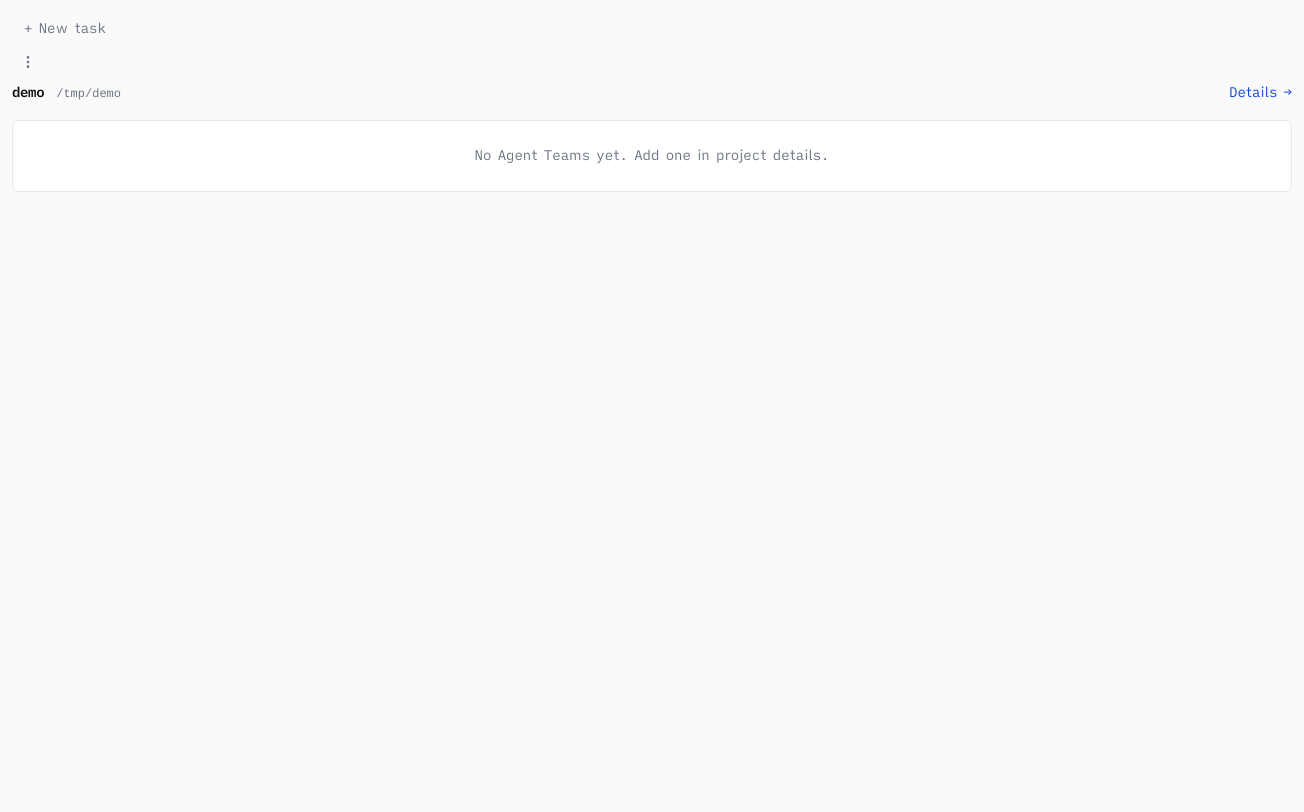
Test: Dashboard layout › closes the kebab menu when Escape is pressed or an outside click happens
The width and height of the screenshot is (1304, 812).
Click the button named "More actions" at (28, 62), box [12,46,44,78]
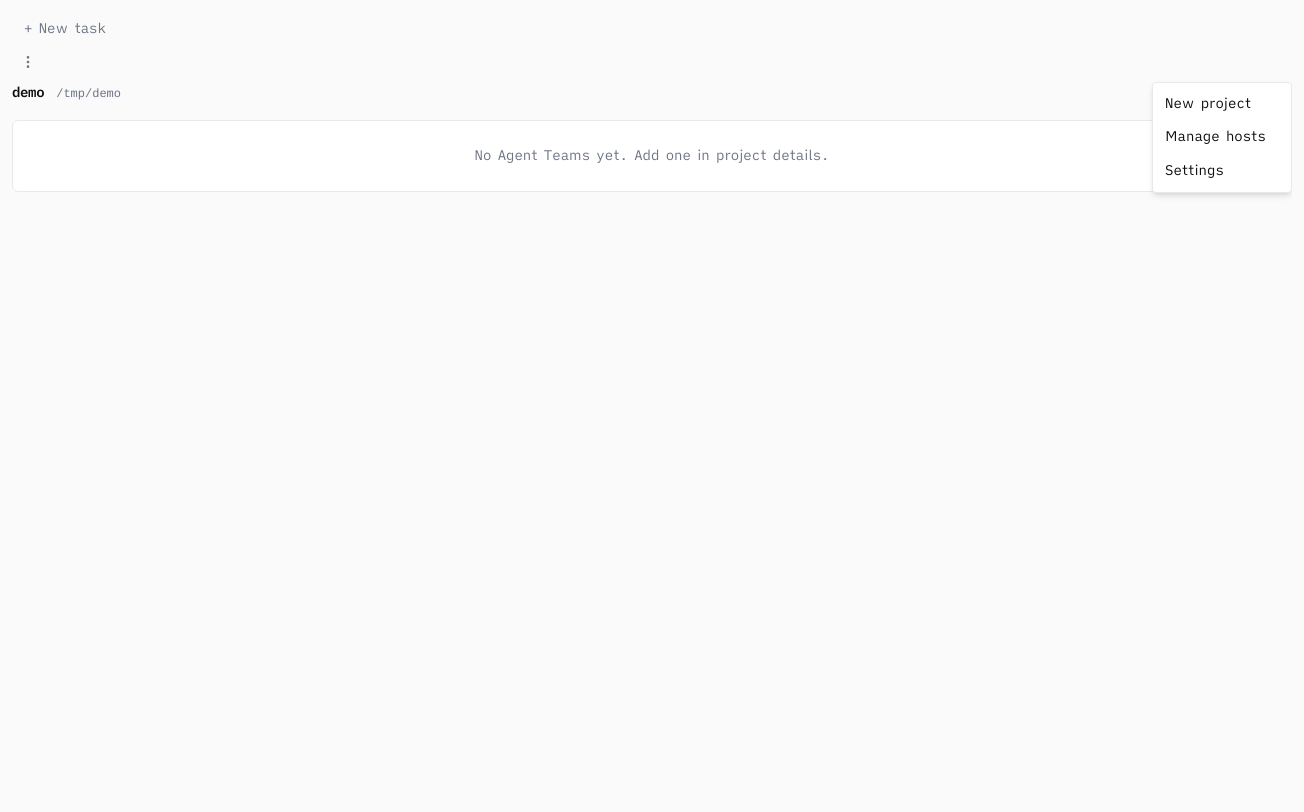
Result: the menu item "New project" is shown at [1153,87,1291,120]
Press Escape
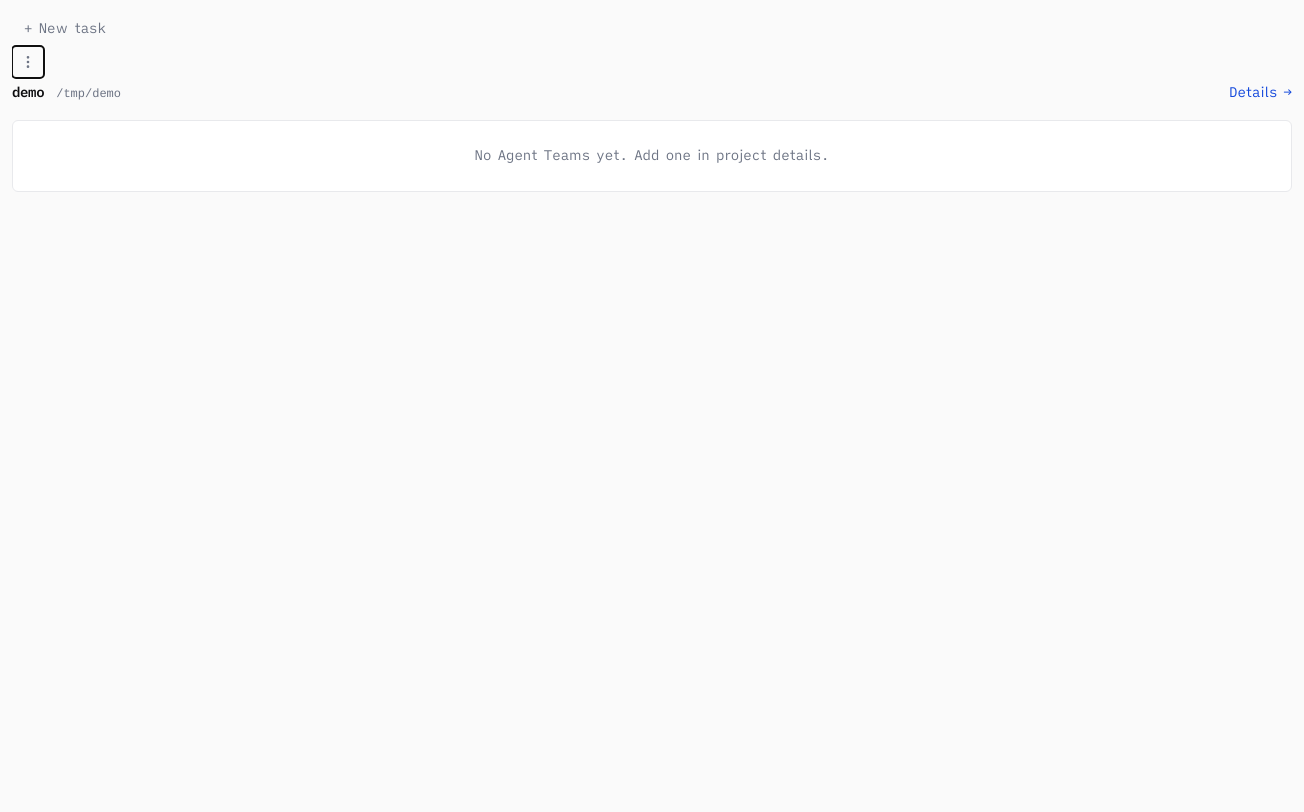
Result: the menu item "New project" is gone
Click the button named "More actions" at (28, 62), box [12,46,44,78]
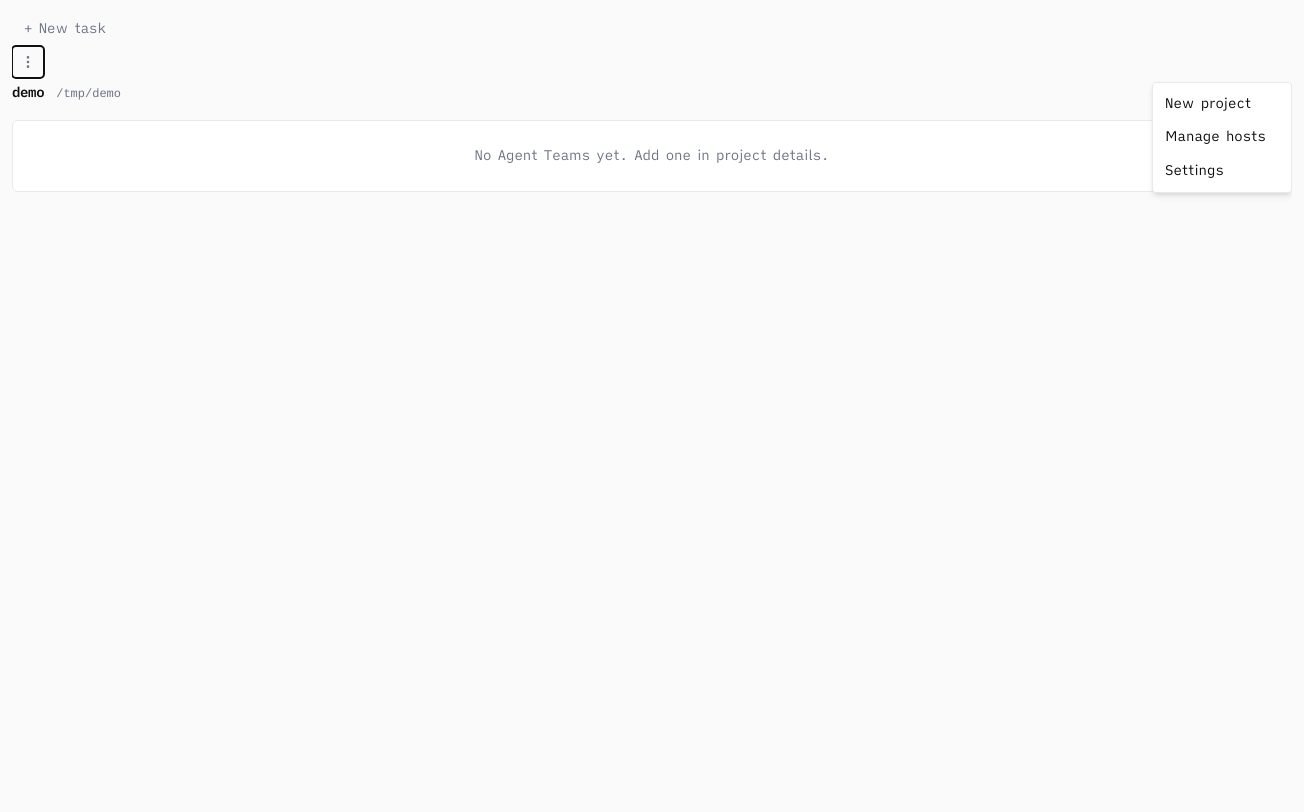
Result: the menu item "New project" is shown at [1153,87,1291,120]
Press the mouse on the element that starts with "+ New task" at (652, 412), box [12,12,1292,811]
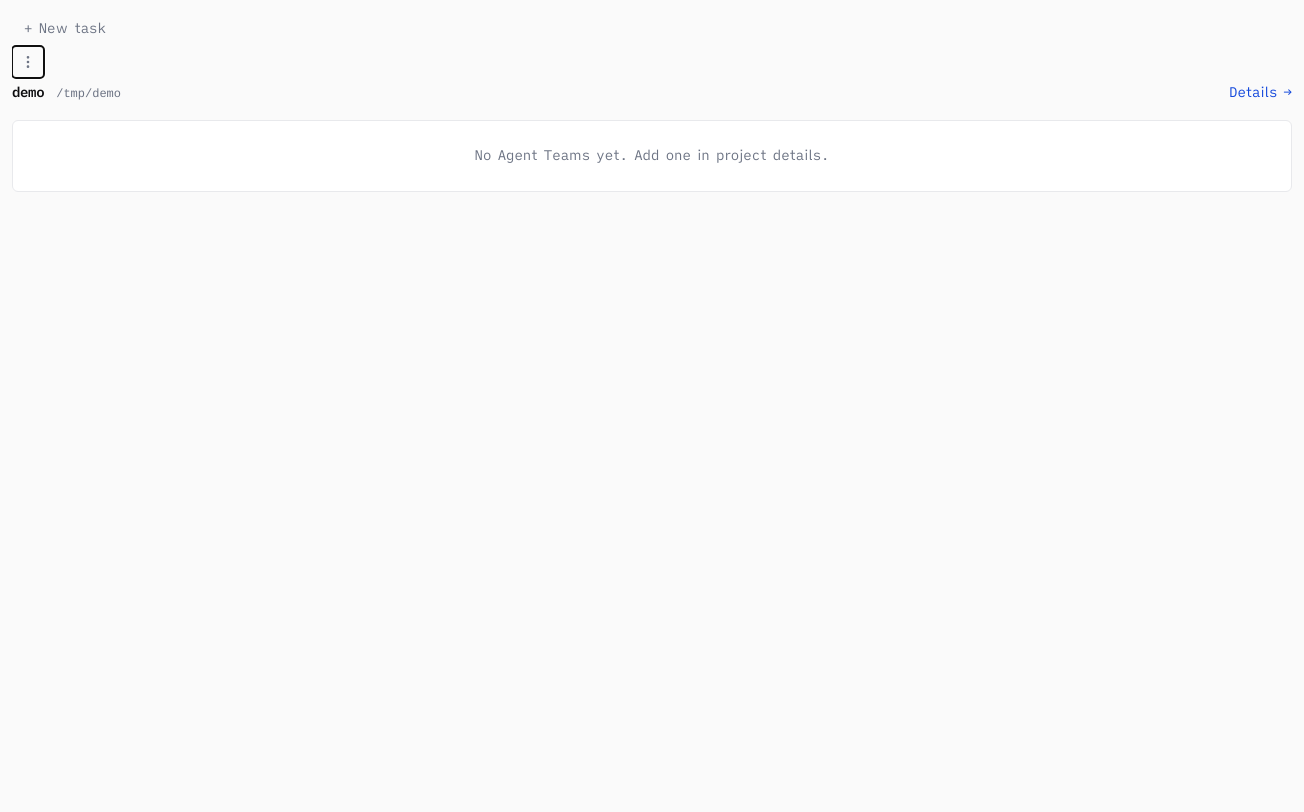
Result: the menu item "New project" is gone
